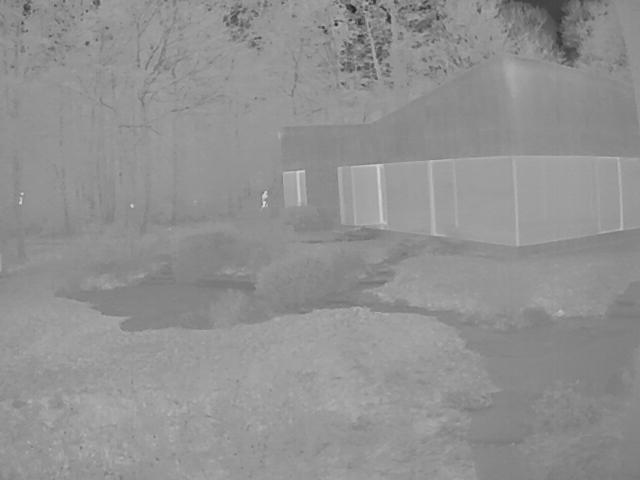person: (258, 189, 270, 212)
